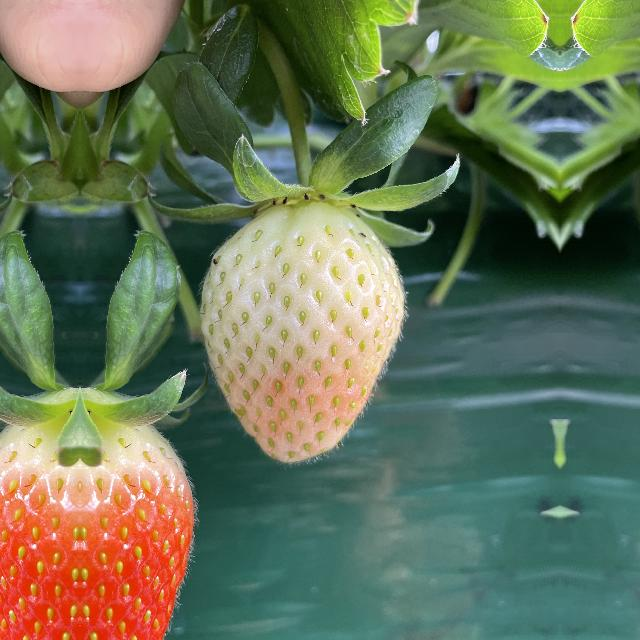Health_100: (80, 402, 200, 640), (0, 402, 80, 639)
Health_25: (194, 193, 413, 462)
